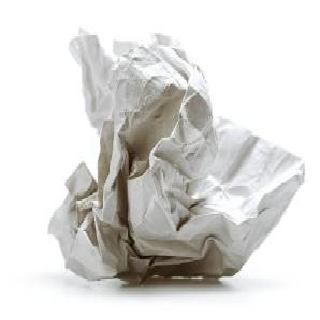8/可回收垃圾/纸: (46, 26, 306, 288)
